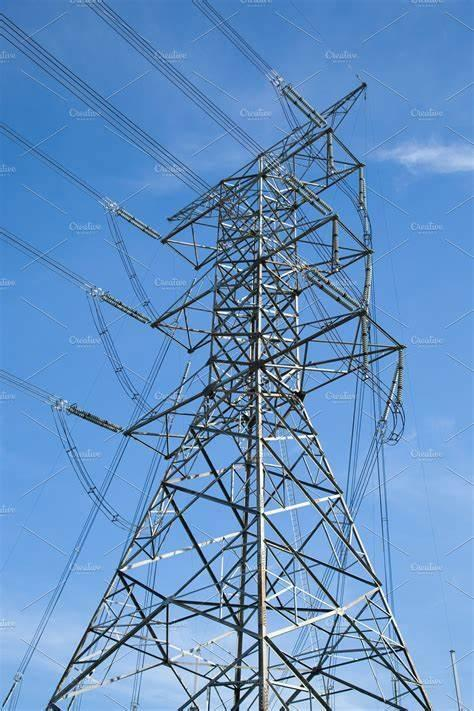power_tower: (46, 67, 436, 711)
